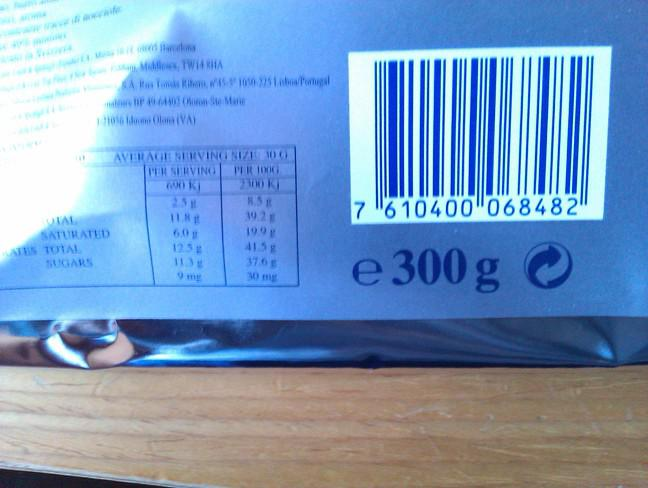Barkod: (348, 47, 607, 225)
